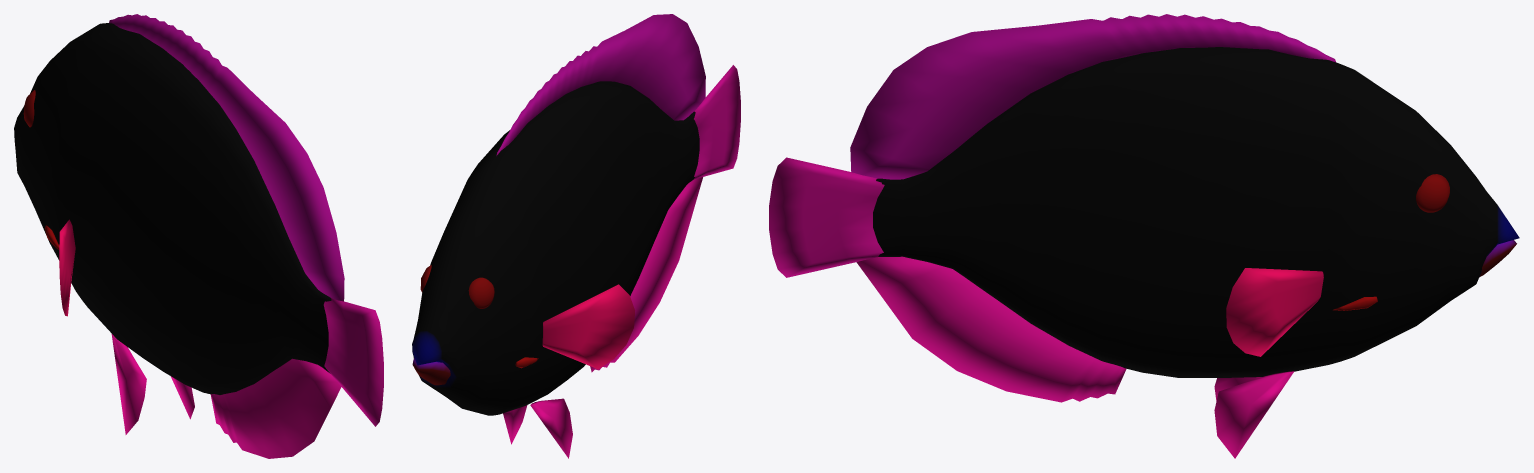
Rendered from angelfish_emperor_game.glb.
The picture shows the model from 3 angles, left to right: view 1: azimuth 30°, elevation 25°; view 2: azimuth 150°, elevation 25°; view 3: azimuth 270°, elevation 25°; orthographic projection. The views are drawn at different scales.
Visible parts, largest first — view 1: angelfish_emperor_game; view 2: angelfish_emperor_game; view 3: angelfish_emperor_game.
Part boxes in pixels (left/top/right/bottom): angelfish_emperor_game: left=14, top=14, right=383, bottom=458; angelfish_emperor_game: left=412, top=14, right=740, bottom=458; angelfish_emperor_game: left=769, top=14, right=1519, bottom=458.
Bounding box in the file's own units: 0.114 × 0.2204 × 0.3498.
